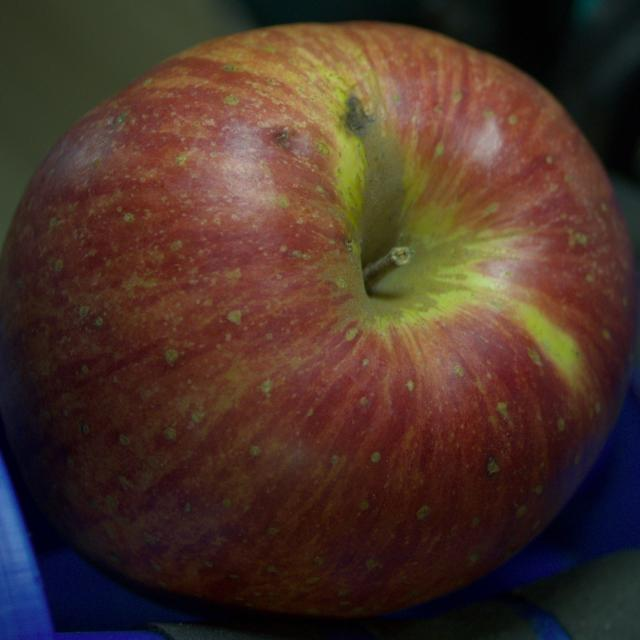apple: (0, 22, 638, 617)
pest: (346, 96, 370, 137), (277, 132, 288, 146)
